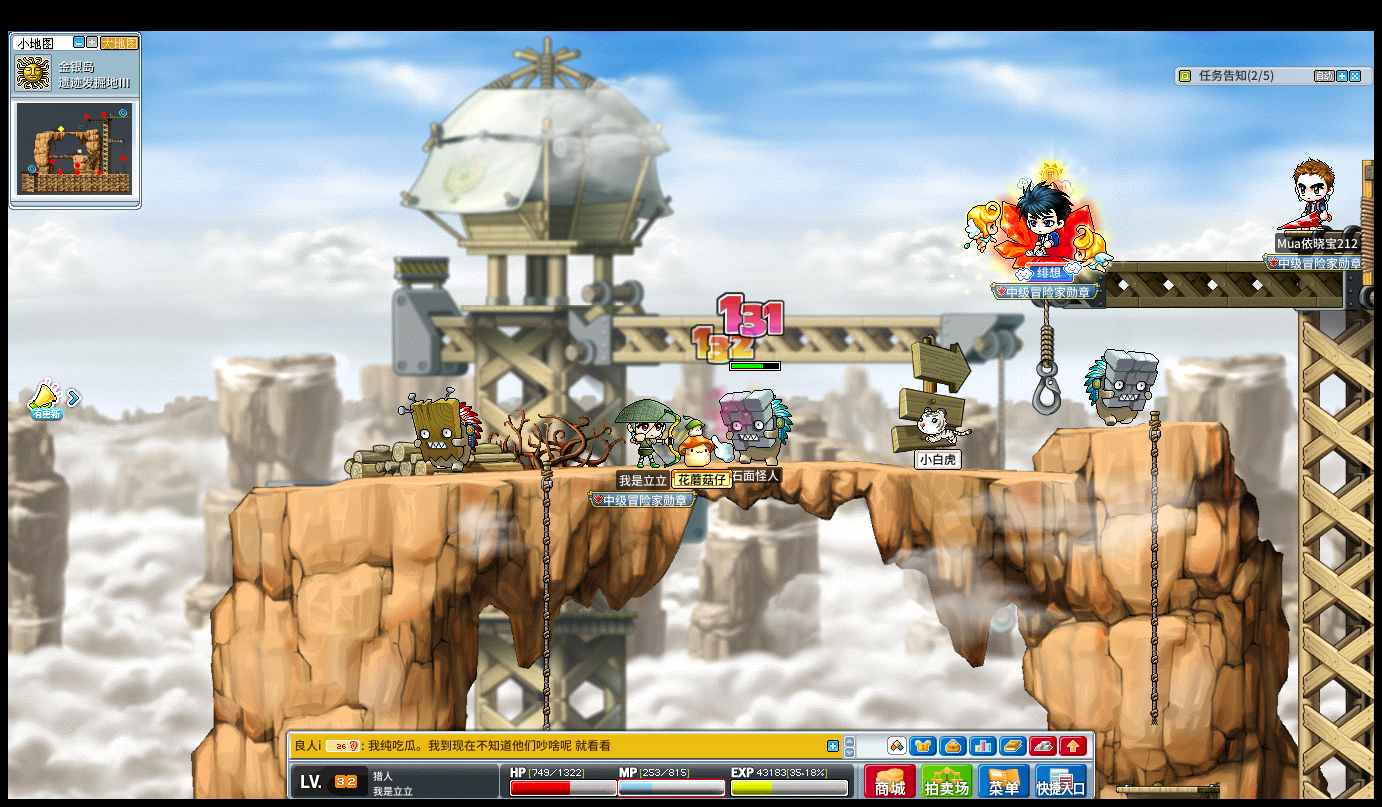floor: (219, 455, 1157, 482), (561, 457, 1078, 474), (1055, 417, 1225, 435)
monster: (401, 389, 481, 475), (1083, 347, 1159, 428), (720, 388, 793, 464)
rope: (1145, 406, 1161, 728), (538, 453, 552, 731), (540, 459, 552, 672)
